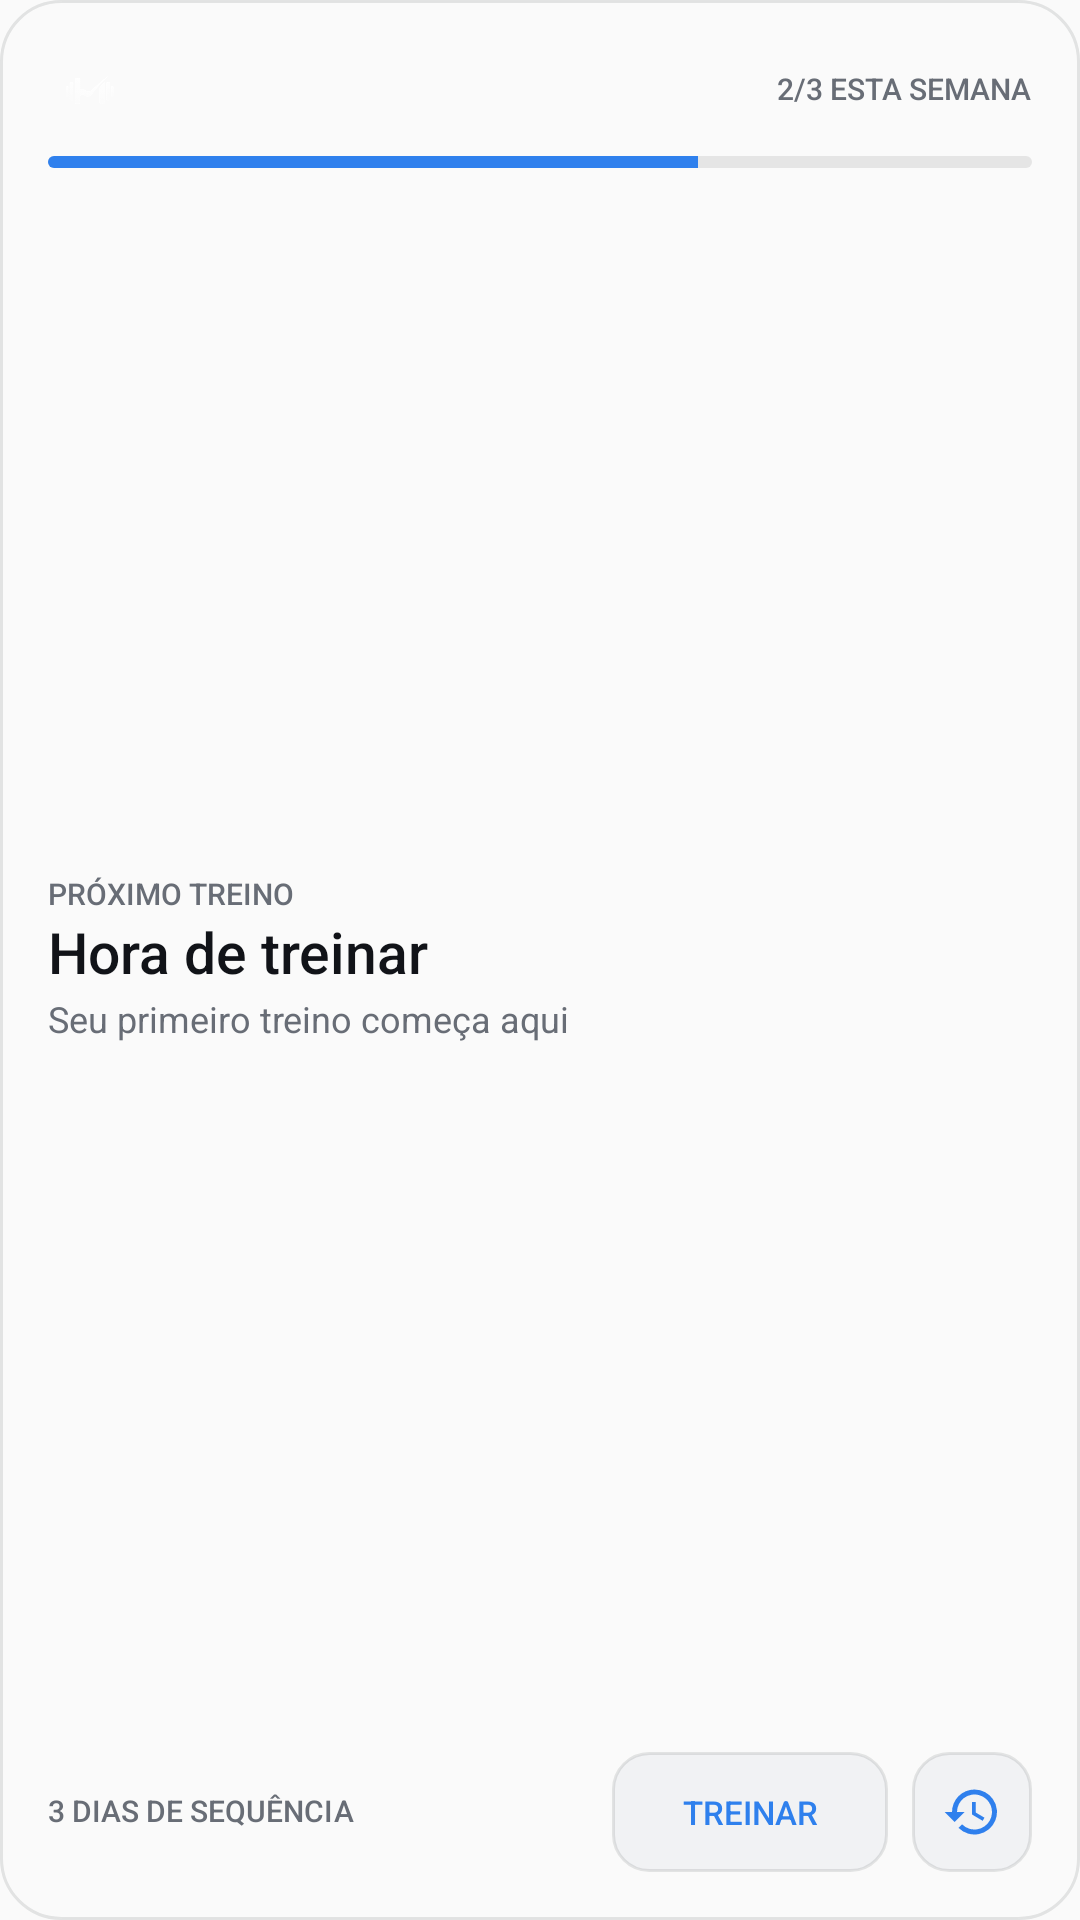

Icon bounding boxes for this 1080x1920 phone screenshot, format (x1, y1, x2, y2):
Abrir histórico: (912, 1752, 1032, 1872)
